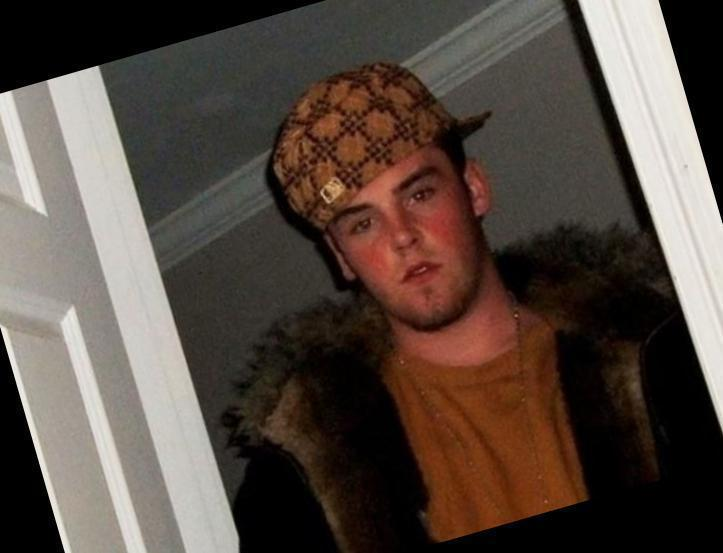Drunk: (329, 155, 465, 321)
